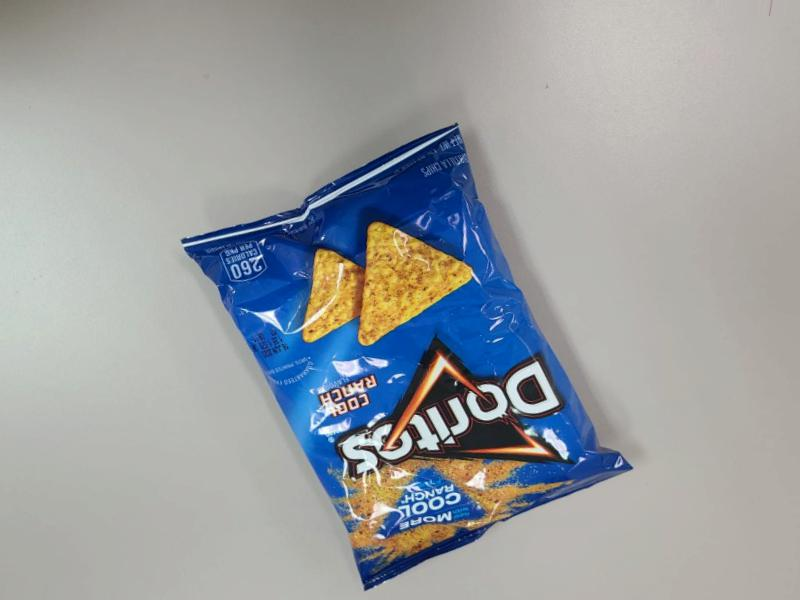doritos: (219, 210, 650, 600)
